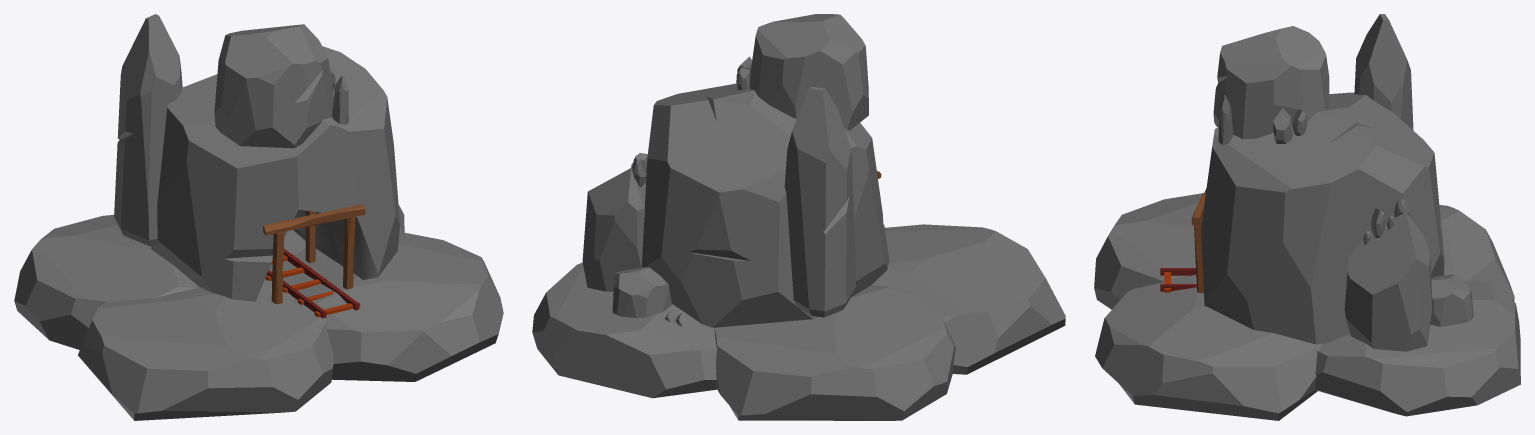
The model's file is Cave.fbx.
3 renders of one model, left to right at view 1: azimuth 30°, elevation 25°; view 2: azimuth 150°, elevation 25°; view 3: azimuth 270°, elevation 25°, orthographic.
Visible parts, largest first — view 1: Base, Cave, Wooden beams, Sleepers, Rails; view 2: Cave, Base; view 3: Cave, Base, Wooden beams, Sleepers.
Part boxes in pixels (box(x1,y1,x2,y2)): Base: box(14, 205, 503, 420); Cave: box(114, 14, 399, 301); Wooden beams: box(263, 204, 365, 304); Sleepers: box(266, 248, 359, 318); Rails: box(265, 253, 360, 317); Cave: box(582, 14, 889, 327); Base: box(532, 224, 1065, 420); Cave: box(1201, 14, 1473, 351); Base: box(1094, 193, 1520, 420); Wooden beams: box(1191, 188, 1206, 292); Sleepers: box(1160, 268, 1196, 291).
Size of the model in its own units: 5139 by 3746 by 4883.
